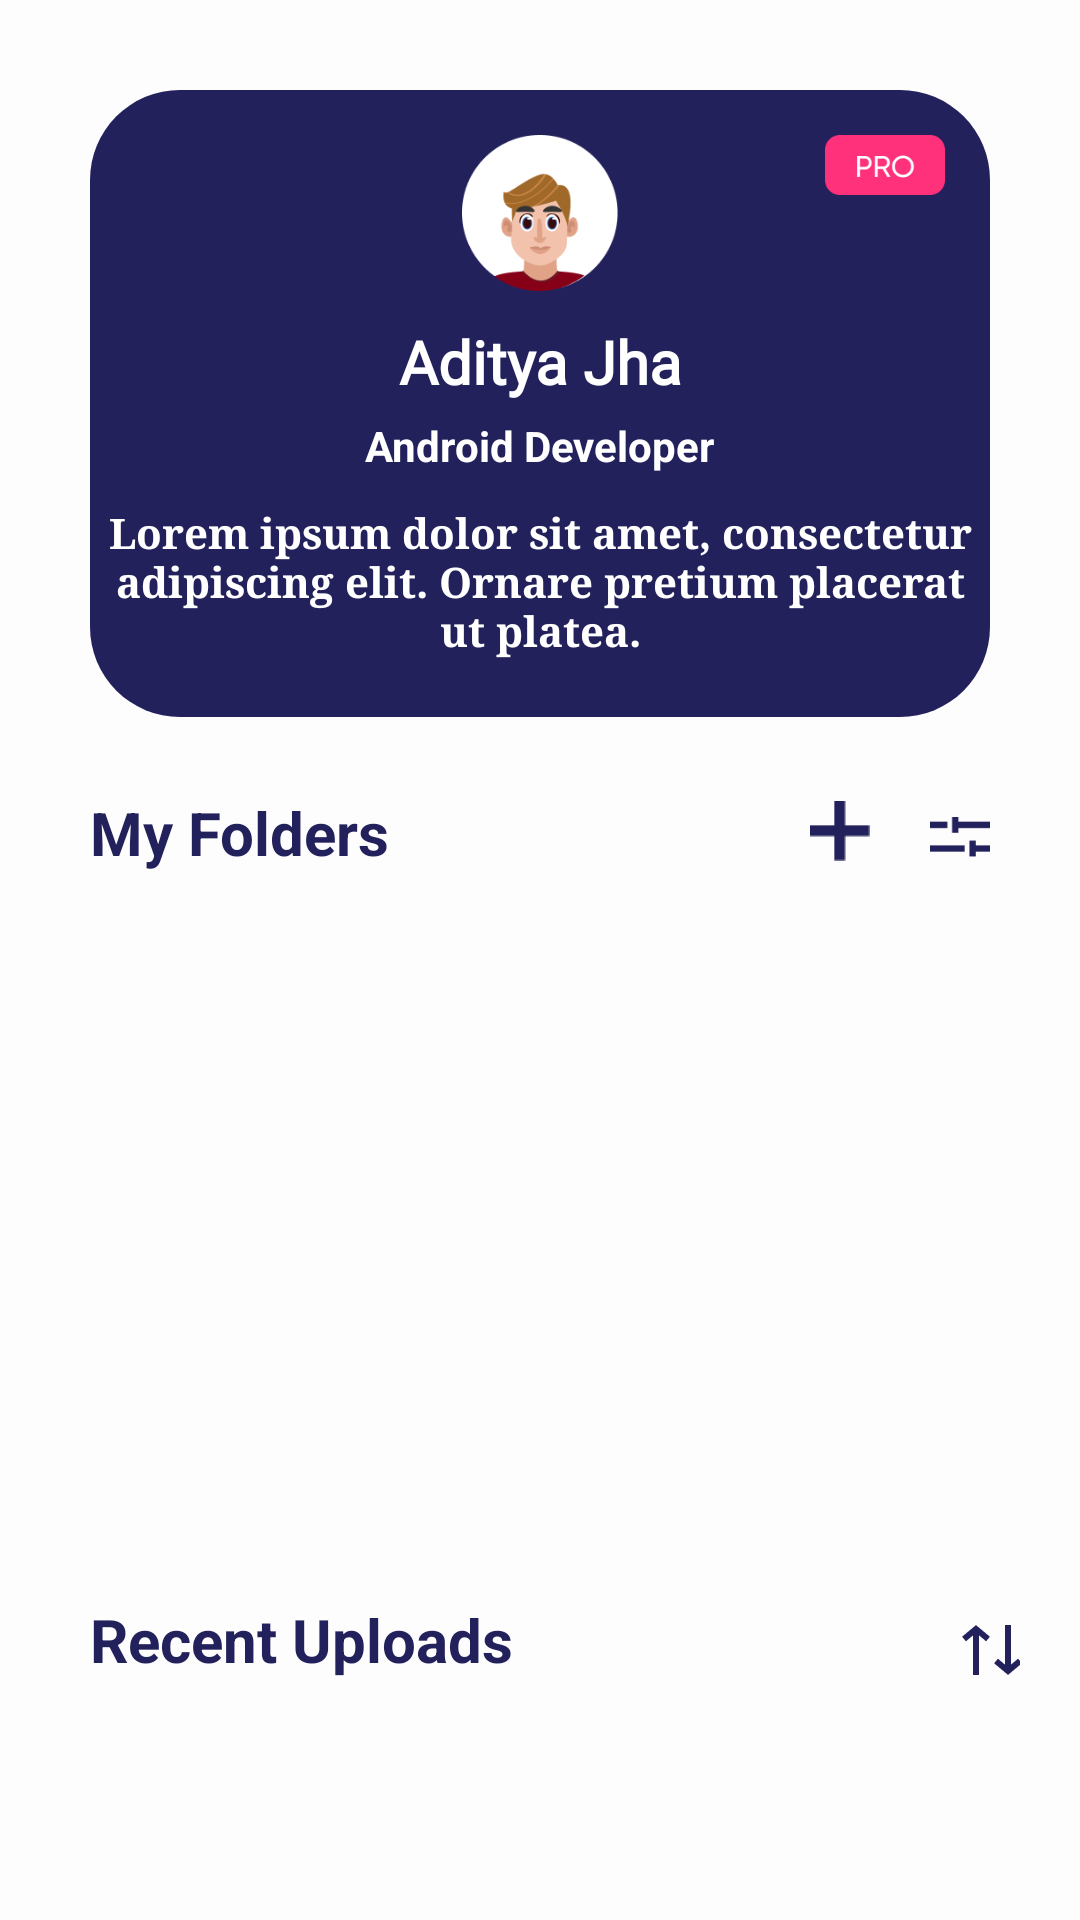

Named icons in this screenshot (1080 x 1920) and their bounding boxes, [left=x1, top=y1, right=x2, bottom=y2]:
add: [left=810, top=801, right=870, bottom=861]
filters: [left=930, top=817, right=990, bottom=857]
profile pic: [left=462, top=135, right=618, bottom=291]
sort: [left=962, top=1625, right=1020, bottom=1675]
